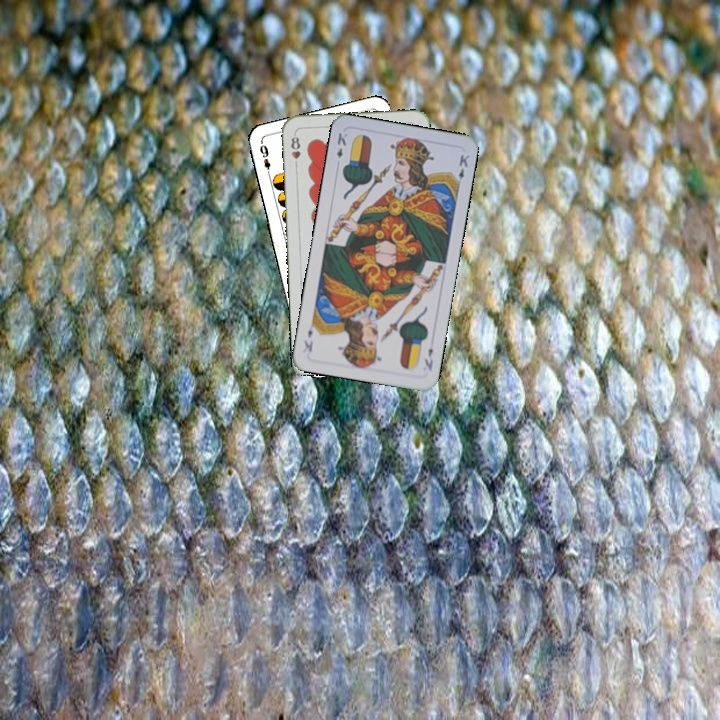E9: (255, 141, 273, 179)
EK: (333, 129, 350, 161), (420, 344, 436, 373)
H8: (287, 130, 303, 170)
